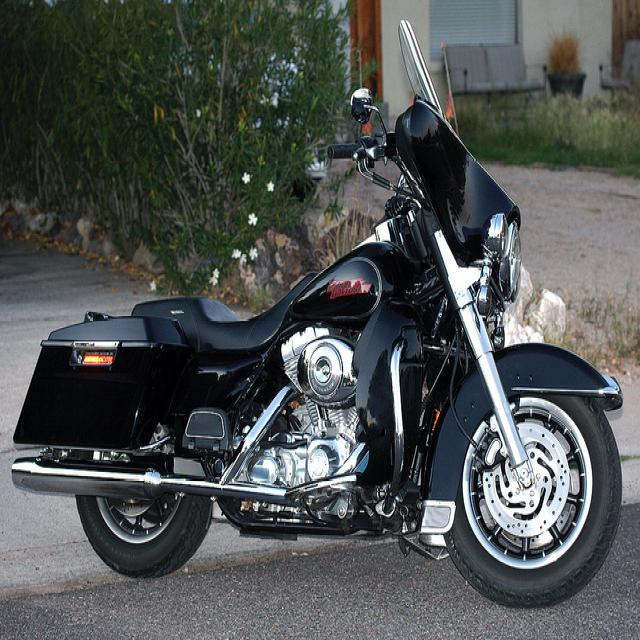motor: (9, 13, 626, 617)
